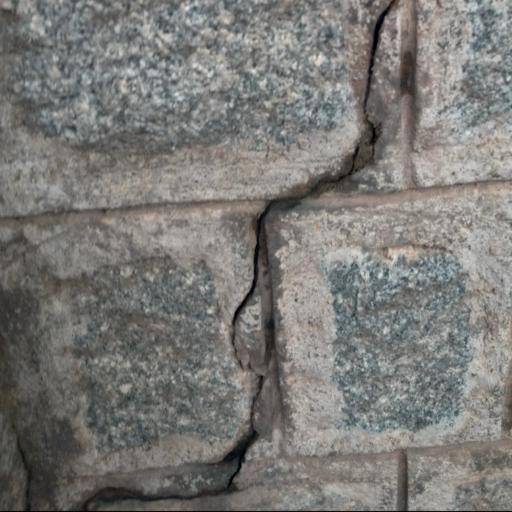major_crack: (34, 0, 410, 509), (7, 438, 37, 512)
